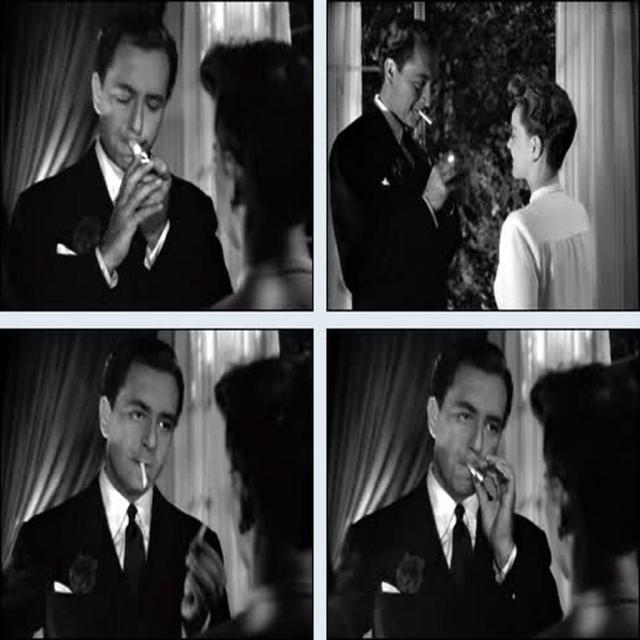smoking: (88, 333, 196, 510), (421, 334, 514, 519), (89, 13, 174, 200), (372, 8, 439, 138)
